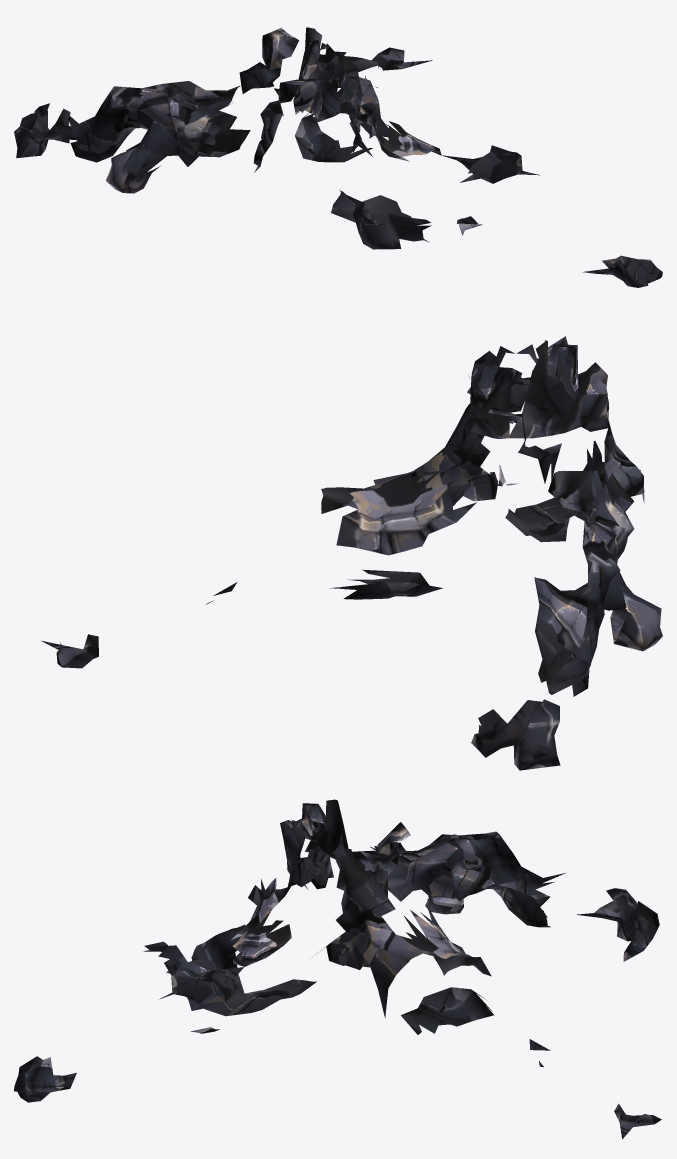
The model's file is RIP0 (2).obj.
3 renders of one model, top to bottom at view 1: azimuth 30°, elevation 25°; view 2: azimuth 150°, elevation 25°; view 3: azimuth 270°, elevation 25°, orthographic. The views are drawn at different scales.
Parts seen in each view (by area): view 1: RIP0; view 2: RIP0; view 3: RIP0.
Part boxes in pixels (x1,y1,x2,y2): RIP0: [14, 27, 662, 287]; RIP0: [41, 336, 662, 770]; RIP0: [14, 799, 661, 1138].
Size of the model in its own units: 0.8021 by 0.3582 by 1.
